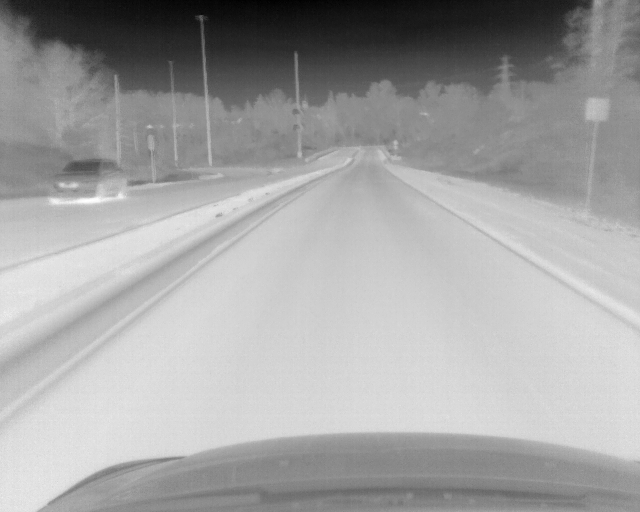car: (50, 157, 126, 203)
